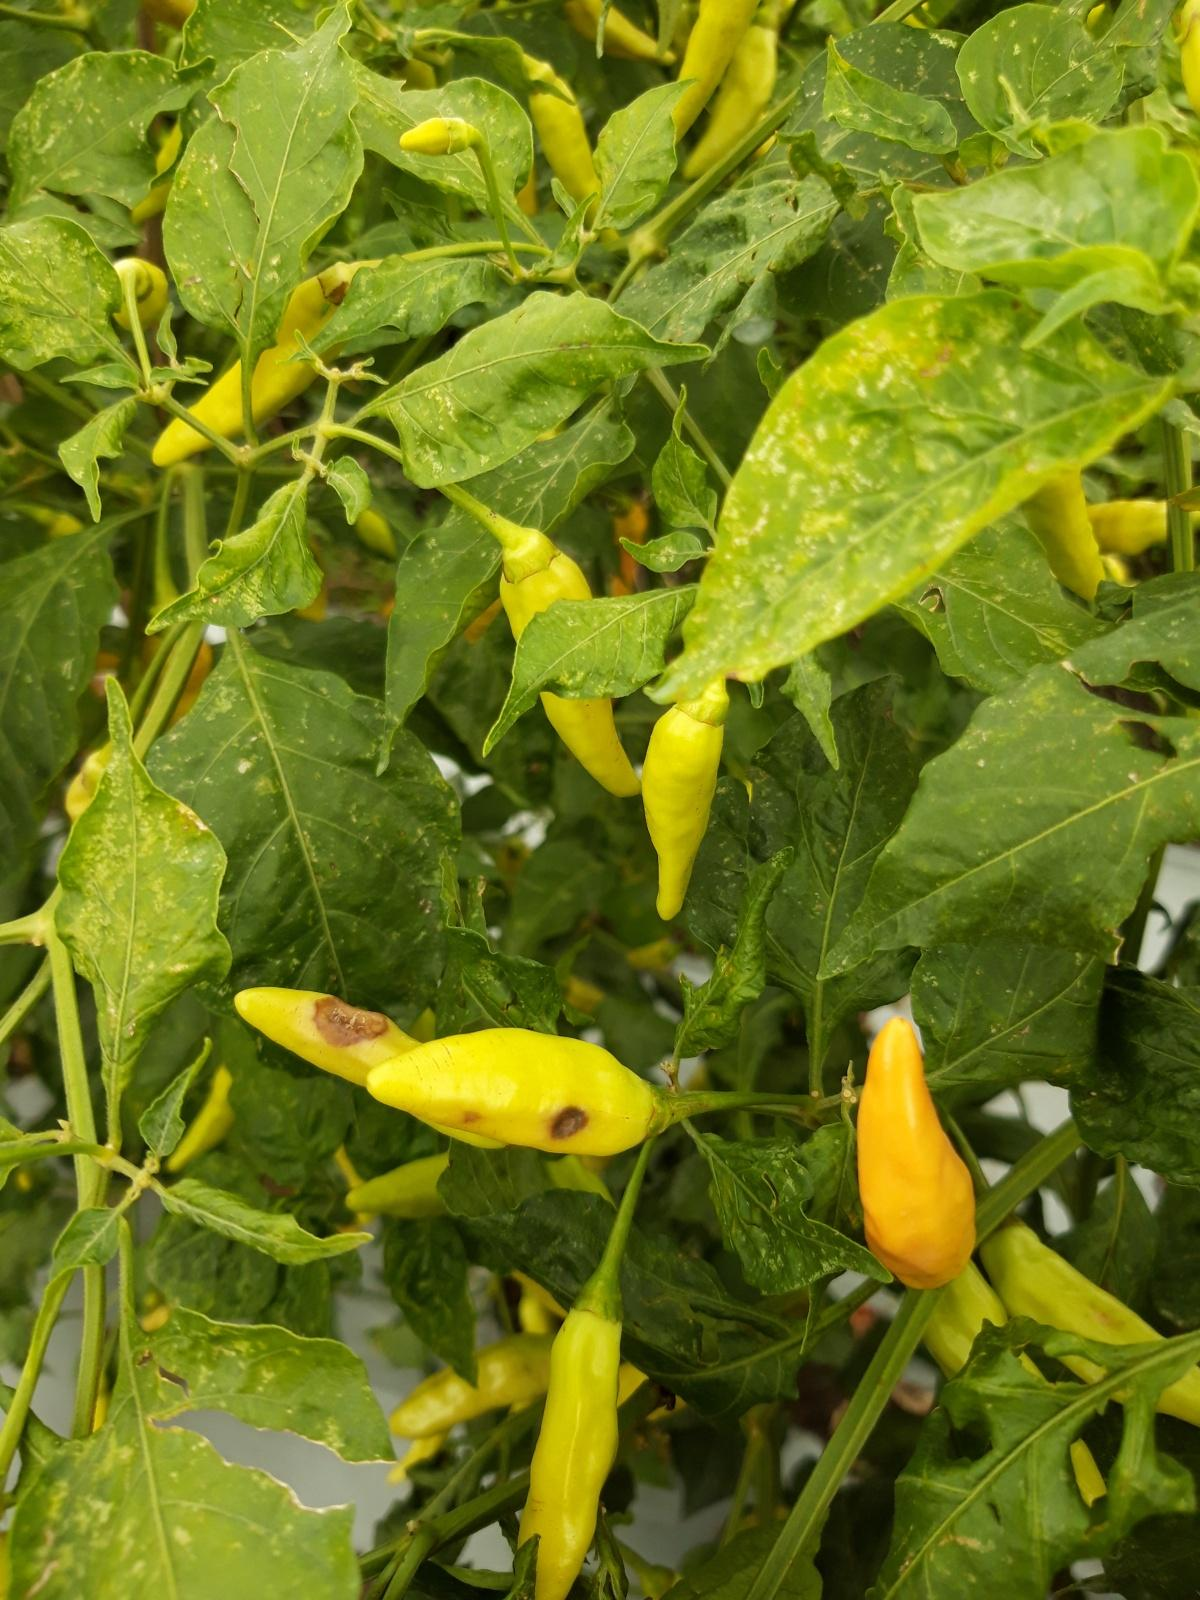cabai_normal: (978, 1216, 1200, 1425), (500, 529, 642, 795), (517, 1276, 626, 1600), (857, 1018, 978, 1288), (642, 684, 726, 923), (153, 345, 311, 469), (391, 1335, 553, 1436), (527, 58, 608, 234), (398, 116, 469, 157)
lalat_buah: (366, 1028, 669, 1157), (234, 986, 422, 1089)
